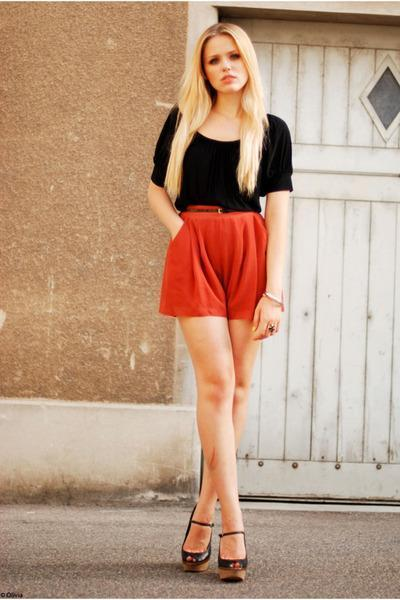shirt: (154, 107, 292, 213)
shoe: (176, 540, 246, 584)
skirt: (159, 205, 268, 332)
